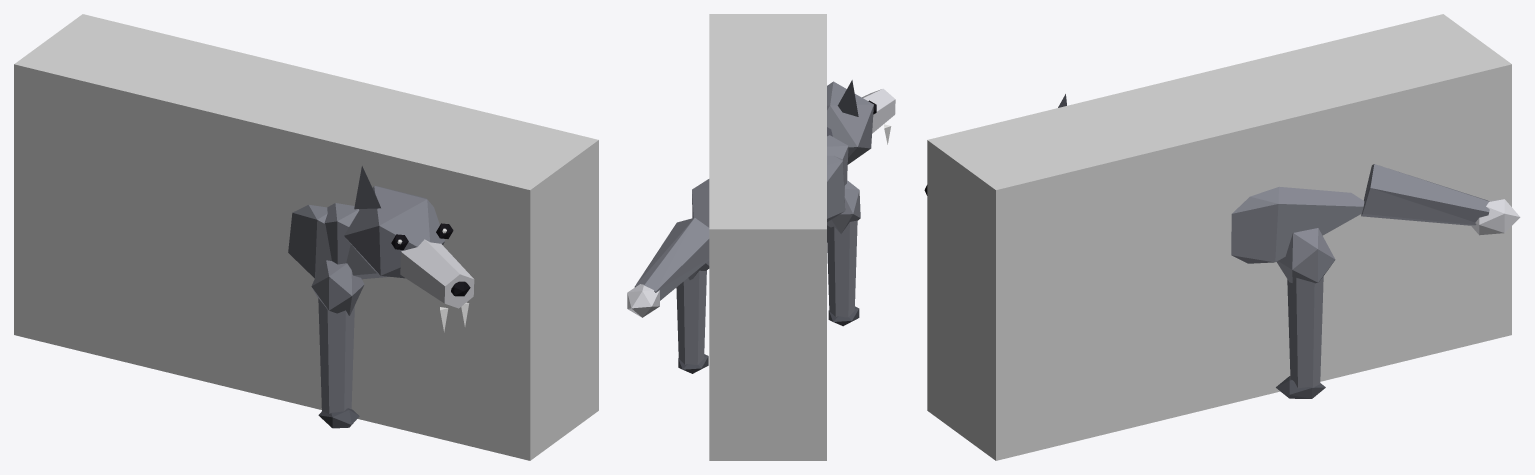
Rendered from plains_wild_wolf.fbx.
3 renders of one model, left to right at view 1: azimuth 30°, elevation 25°; view 2: azimuth 150°, elevation 25°; view 3: azimuth 270°, elevation 25°, orthographic. The views are drawn at different scales.
Visible parts, largest first — view 1: Root__-0.01_2.00_0.30__1.84_4.00_7.98, Head__Body__0.00_2.78_-1.17, LegFR__Body__0.58_1.98_-1.30, Body__Root__0.00_2.53_0.00; view 2: Root__-0.01_2.00_0.30__1.84_4.00_7.98, Tail__Body__0.00_2.80_2.24, LegFR__Body__0.58_1.98_-1.30, Head__Body__0.00_2.78_-1.17, LegBL__Body__-0.58_1.98_1.41, Body__Root__0.00_2.53_0.00; view 3: Root__-0.01_2.00_0.30__1.84_4.00_7.98, Body__Root__0.00_2.53_0.00, LegBL__Body__-0.58_1.98_1.41, Tail__Body__0.00_2.80_2.24.
Part boxes in pixels (x1,y1,x2,y2): Root__-0.01_2.00_0.30__1.84_4.00_7.98: (14, 14, 598, 460); Head__Body__0.00_2.78_-1.17: (344, 166, 474, 332); LegFR__Body__0.58_1.98_-1.30: (311, 260, 364, 428); Body__Root__0.00_2.53_0.00: (288, 203, 389, 279); Root__-0.01_2.00_0.30__1.84_4.00_7.98: (709, 14, 826, 460); Tail__Body__0.00_2.80_2.24: (627, 217, 709, 317); LegFR__Body__0.58_1.98_-1.30: (827, 180, 860, 326); Head__Body__0.00_2.78_-1.17: (827, 80, 895, 164); LegBL__Body__-0.58_1.98_1.41: (676, 260, 709, 373); Body__Root__0.00_2.53_0.00: (692, 127, 848, 227); Root__-0.01_2.00_0.30__1.84_4.00_7.98: (927, 14, 1511, 460); Body__Root__0.00_2.53_0.00: (1231, 186, 1364, 263); LegBL__Body__-0.58_1.98_1.41: (1276, 228, 1335, 398); Tail__Body__0.00_2.80_2.24: (1361, 164, 1520, 235).
Size of the model in its own units: 156 by 112 by 223.
Materials: 1 (1 with a texture image).
